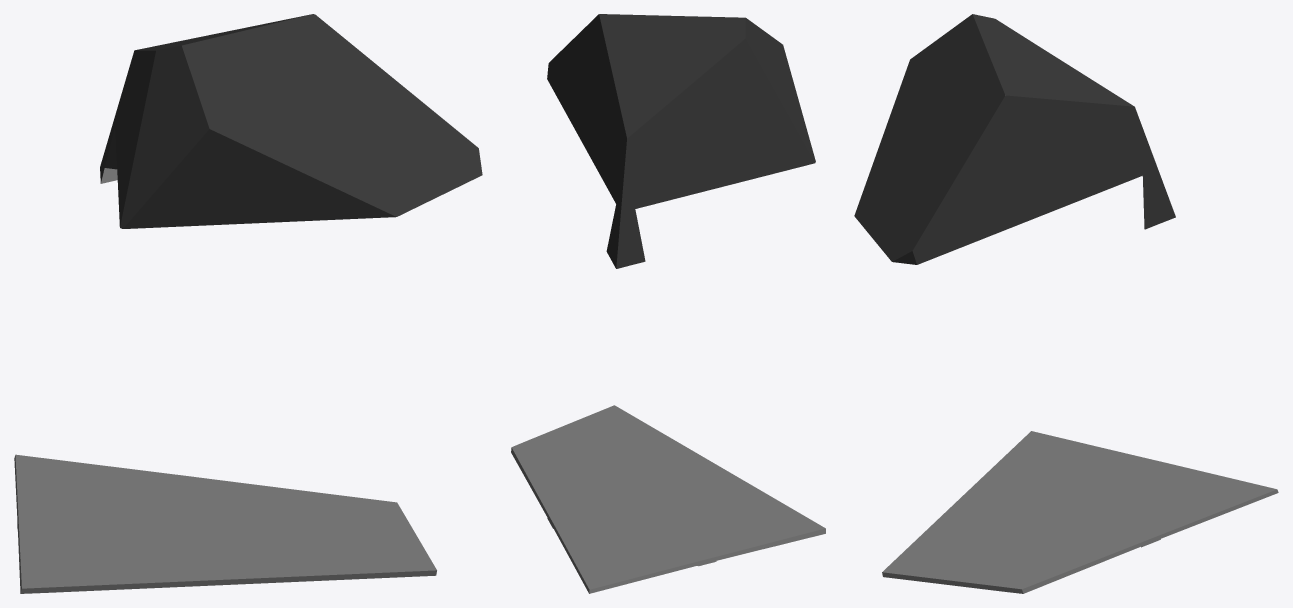
The picture shows the model from 3 angles, left to right: view 1: azimuth 30°, elevation 25°; view 2: azimuth 150°, elevation 25°; view 3: azimuth 270°, elevation 25°; orthographic projection. The views are drawn at different scales.
Visible parts, largest first — view 1: Base_2; view 2: Base_2; view 3: Base_2.
Part boxes in pixels (x1,y1,x2,y2): Base_2: (14, 14, 482, 593); Base_2: (511, 14, 825, 593); Base_2: (854, 14, 1278, 593).
Bounding box in the file's own units: 1061 × 1410 × 1140.
